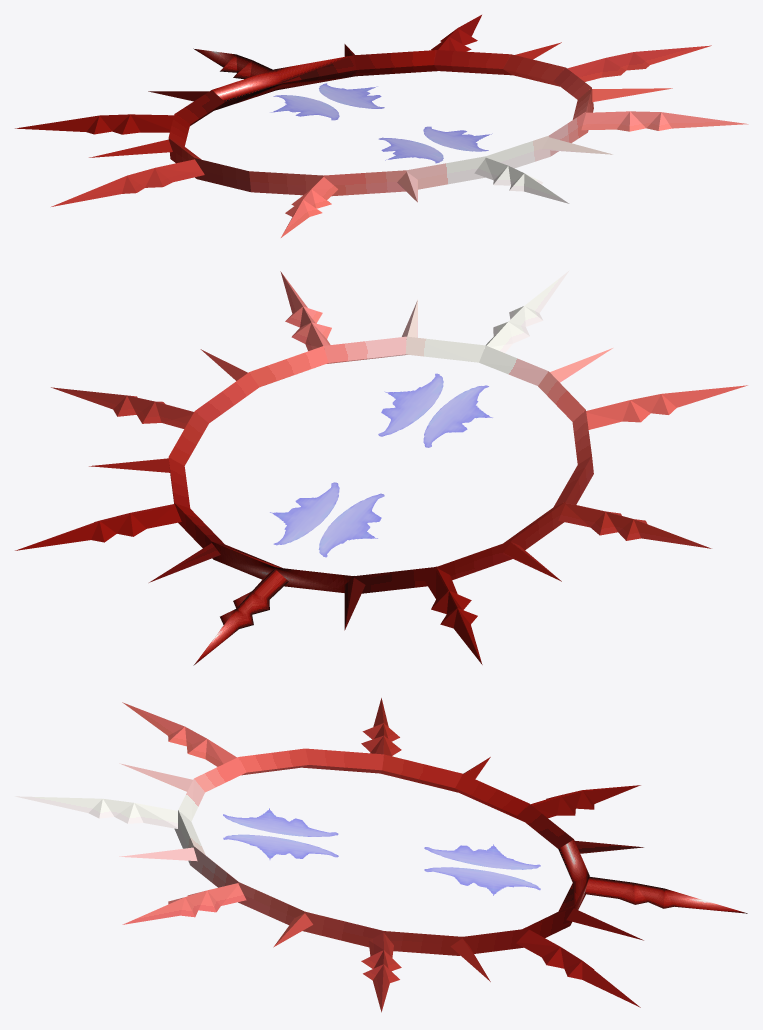
File: common_back_90018.obj
3 views of the same model, one above another, from view 1: azimuth 30°, elevation 25°; view 2: azimuth 150°, elevation 25°; view 3: azimuth 270°, elevation 25° (orthographic). The views are drawn at different scales.
Visible parts, largest first — view 1: liuguang, common_back_90018; view 2: liuguang, common_back_90018; view 3: liuguang, common_back_90018.
Part boxes in pixels (box(x1,y1,x2,y2)): liuguang: box(15, 15, 748, 237); common_back_90018: box(270, 83, 492, 163); liuguang: box(15, 270, 747, 665); common_back_90018: box(270, 373, 492, 557); liuguang: box(15, 698, 747, 1012); common_back_90018: box(223, 808, 540, 895).
Size of the model in its own units: 70.53 by 12.56 by 69.47.
Materials: 3 (3 with a texture image).
